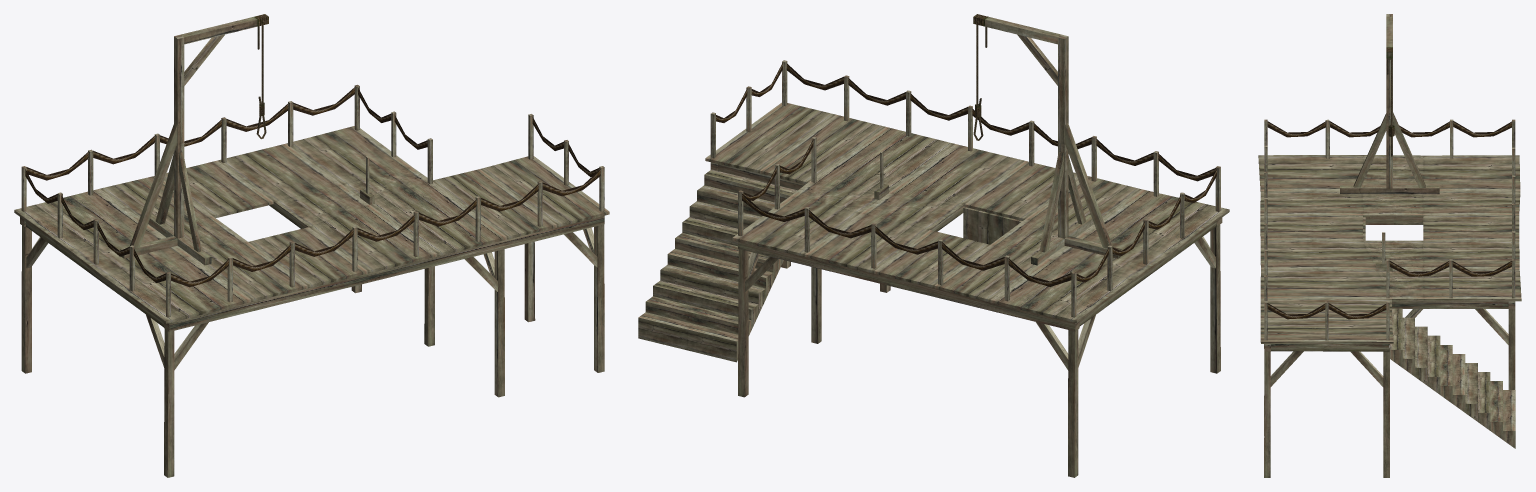
Rendered from pier_gallows.fbx.
3 views of the same model, side by side, from view 1: azimuth 30°, elevation 25°; view 2: azimuth 150°, elevation 25°; view 3: azimuth 270°, elevation 25° (orthographic). The views are drawn at different scales.
Parts seen in each view (by area): view 1: Platform1, corner_post, Gallows, railing1, Frame1, polySurface1; view 2: Platform1, pier_scaffold_stairs:stairs, Gallows, corner_post, railing1, Frame1, trap, polySurface1.001; view 3: Platform1, pier_scaffold_stairs:stairs, Gallows, railing1, Frame1, corner_post, polySurface16, polySurface1.004, polySurface1.003, polySurface1.005, polySurface17, polySurface21 (+3 smaller).
Part boxes in pixels (x1,y1,x2,y2): Platform1: (14, 126, 609, 323); corner_post: (21, 224, 604, 477); Gallows: (120, 14, 268, 265); railing1: (21, 84, 604, 317); Frame1: (20, 204, 604, 331); polySurface1: (146, 314, 208, 370); Platform1: (705, 102, 1229, 323); pier_scaffold_stairs:stairs: (638, 169, 797, 362); Gallows: (973, 14, 1121, 265); corner_post: (738, 224, 1220, 477); railing1: (710, 60, 1220, 317); Frame1: (710, 162, 1222, 331); trap: (963, 207, 1022, 244); polySurface1.001: (1036, 315, 1095, 370); Platform1: (1258, 155, 1521, 343); pier_scaffold_stairs:stairs: (1390, 308, 1515, 448); Gallows: (1340, 14, 1439, 194); railing1: (1264, 119, 1515, 340); Frame1: (1264, 217, 1515, 351); corner_post: (1264, 309, 1515, 477); polySurface16: (1389, 261, 1449, 276); polySurface1.004: (1474, 308, 1508, 344); polySurface1.003: (1270, 351, 1303, 386); polySurface1.005: (1350, 351, 1383, 386); polySurface17: (1452, 261, 1511, 276); polySurface21: (1453, 121, 1511, 137).
Size of the model in its own units: 4764 by 3744 by 2834.
Materials: 3 (3 with a texture image).
